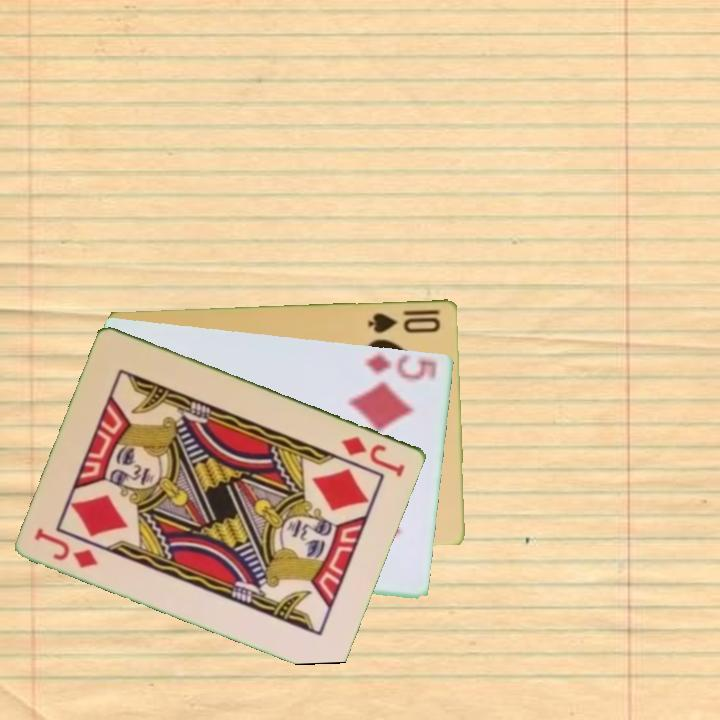10s: (365, 305, 444, 336)
5d: (361, 349, 440, 383)
Jd: (338, 432, 409, 480), (31, 524, 102, 571)
